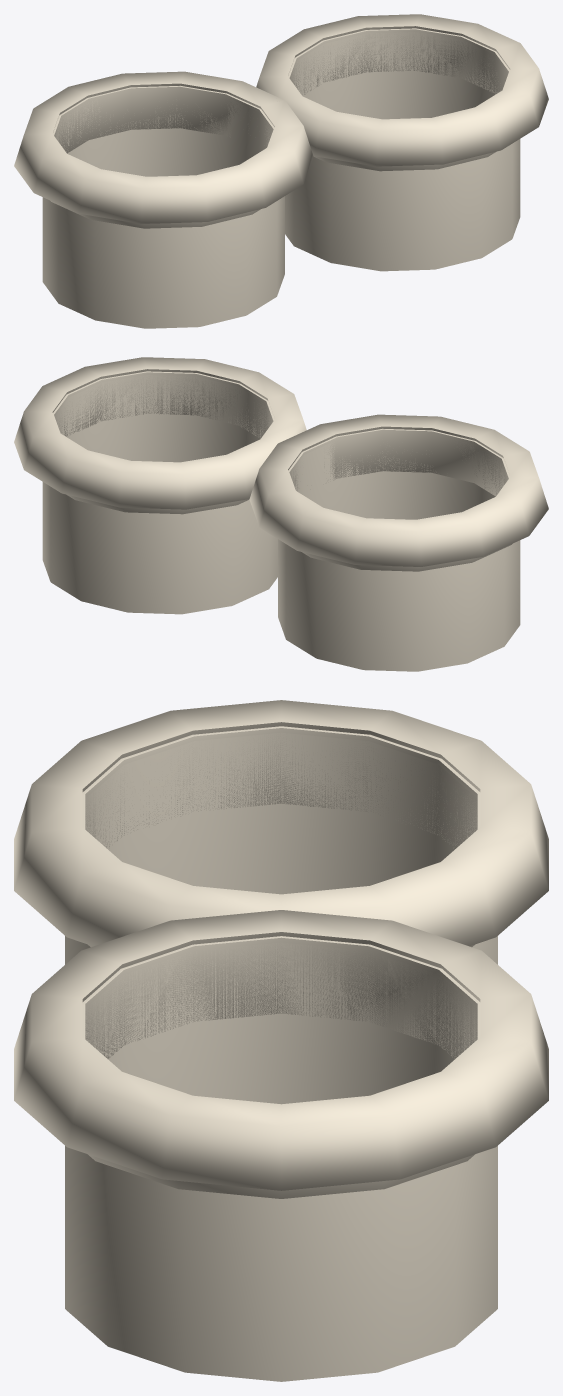
File: aran_knit_socks.glb
The picture shows the model from 3 angles, top to bottom: view 1: azimuth 30°, elevation 25°; view 2: azimuth 150°, elevation 25°; view 3: azimuth 270°, elevation 25°; orthographic projection. The views are drawn at different scales.
Parts seen in each view (by area): view 1: aran_knit_socks_LegL, aran_knit_socks_LegR; view 2: aran_knit_socks_LegL, aran_knit_socks_LegR; view 3: aran_knit_socks_LegR, aran_knit_socks_LegL.
Part boxes in pixels (x1=…): aran_knit_socks_LegL: x1=14, y1=71, x2=313, y2=328; aran_knit_socks_LegR: x1=256, y1=14, x2=548, y2=271; aran_knit_socks_LegL: x1=249, y1=414, x2=548, y2=671; aran_knit_socks_LegR: x1=14, y1=357, x2=306, y2=614; aran_knit_socks_LegR: x1=14, y1=910, x2=548, y2=1381; aran_knit_socks_LegL: x1=14, y1=700, x2=548, y2=964.
Size of the model in its own units: 0.4 by 0.114 by 0.2047.
